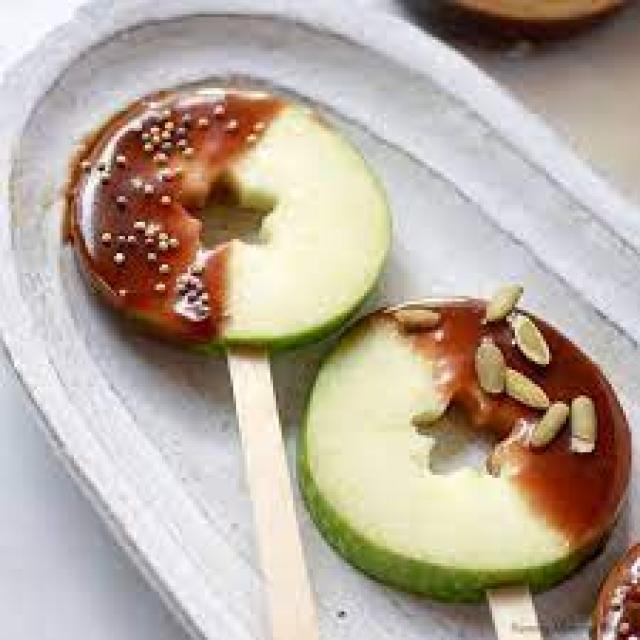Apple: (294, 329, 574, 598), (237, 81, 391, 345)
